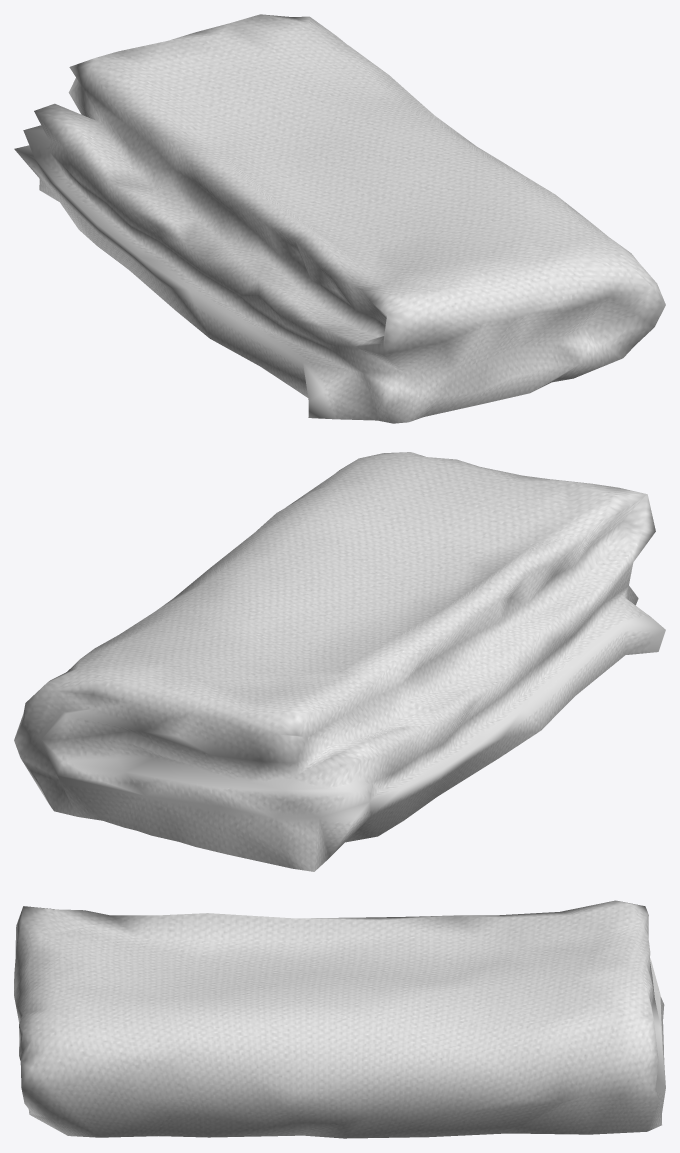
Rendered from Towel_D.fbx.
The picture shows the model from 3 angles, top to bottom: view 1: azimuth 30°, elevation 25°; view 2: azimuth 150°, elevation 25°; view 3: azimuth 270°, elevation 25°; orthographic projection. The views are drawn at different scales.
Parts seen in each view (by area): view 1: Towel_D_LOD0; view 2: Towel_D_LOD0; view 3: Towel_D_LOD0.
Boxes of the visible parts, box(x1,y1,x2,y2) form: Towel_D_LOD0: box(14, 14, 665, 423); Towel_D_LOD0: box(14, 452, 665, 871); Towel_D_LOD0: box(14, 900, 665, 1138).
Size of what is drawn, in the model's own units: 20.35 by 7.74 by 36.39.
